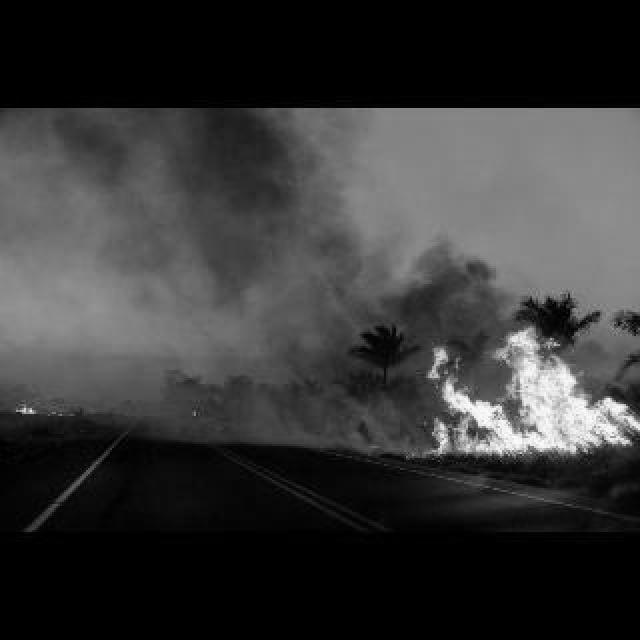Fire: (412, 330, 636, 458), (12, 402, 36, 412)
Smoke: (8, 113, 512, 367), (156, 374, 422, 460)
